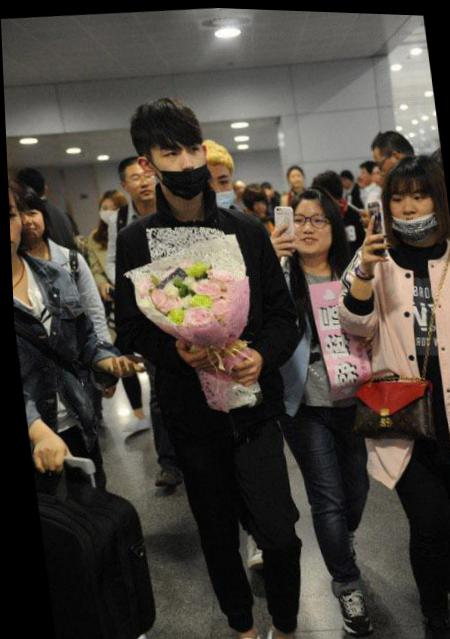NONE: (125, 166, 155, 202), (8, 205, 26, 259), (18, 209, 42, 239), (289, 169, 302, 185)
OK: (290, 207, 334, 254), (196, 167, 237, 212), (97, 201, 121, 229)
WRONG: (142, 134, 209, 199), (386, 176, 447, 237)
